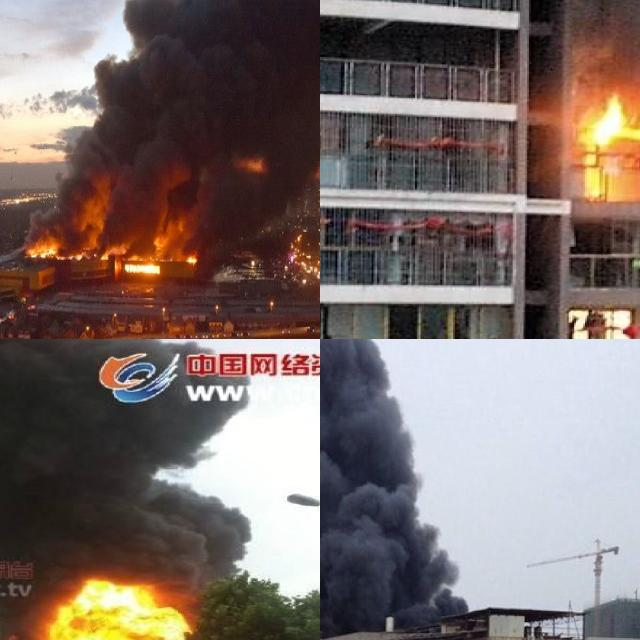fire: (28, 576, 194, 640), (574, 89, 640, 188), (27, 242, 178, 274), (184, 248, 197, 264)
smoke: (0, 339, 251, 640), (26, 0, 320, 245), (320, 339, 464, 640), (552, 0, 640, 81)
